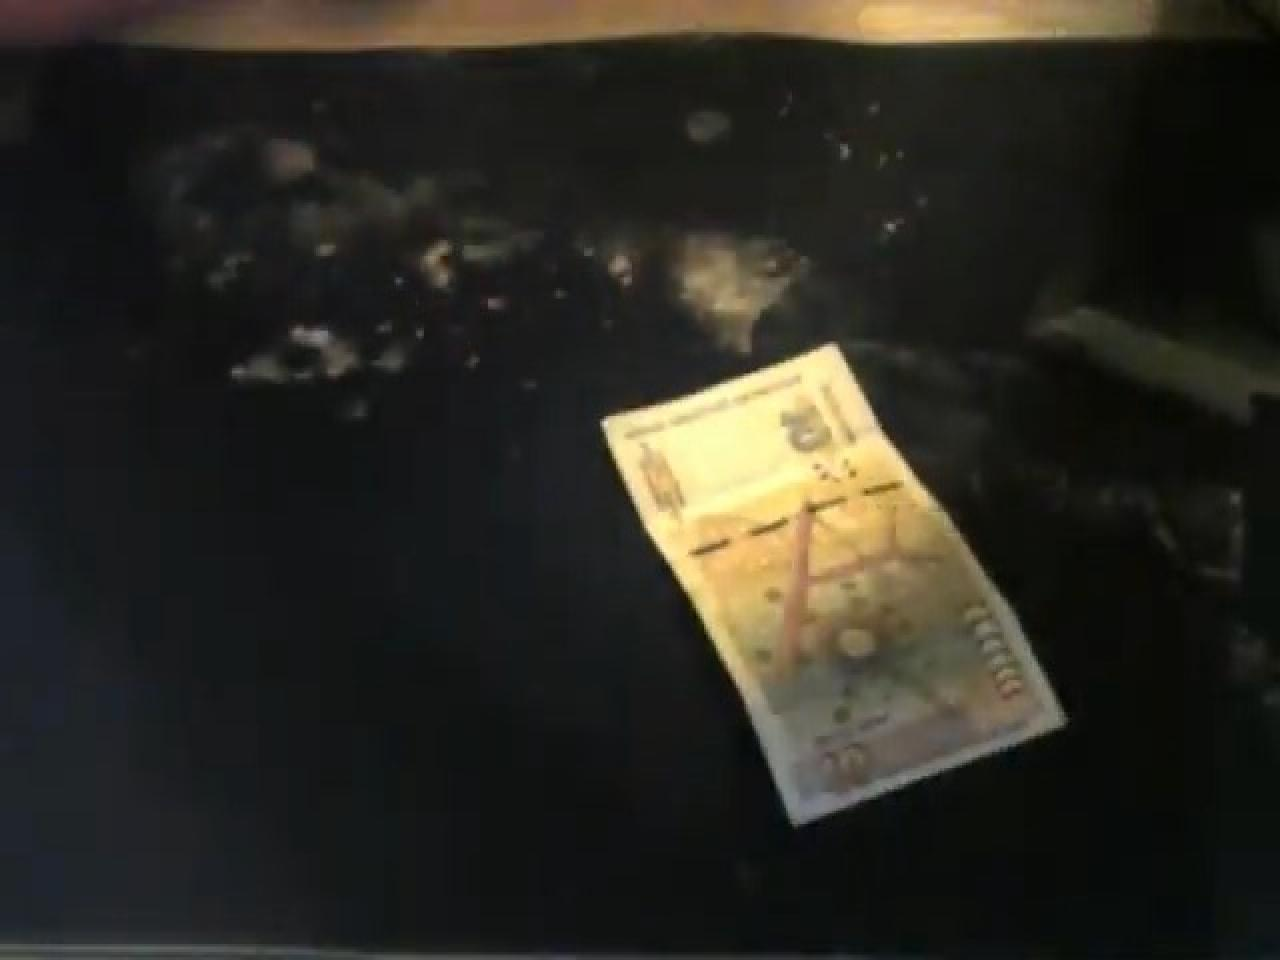10leva: (598, 336, 1070, 829)
